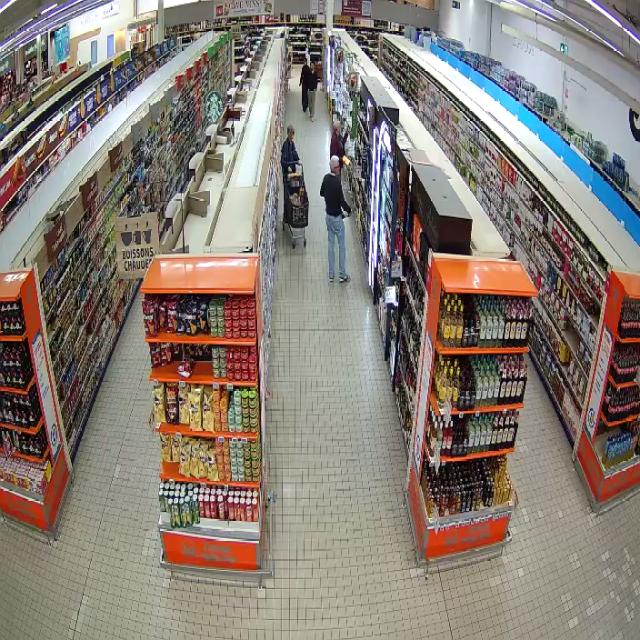article: (342, 207, 356, 219), (343, 155, 350, 165)
hands: (287, 167, 292, 174)
person: (321, 156, 350, 282), (281, 126, 299, 178), (330, 121, 348, 168)
